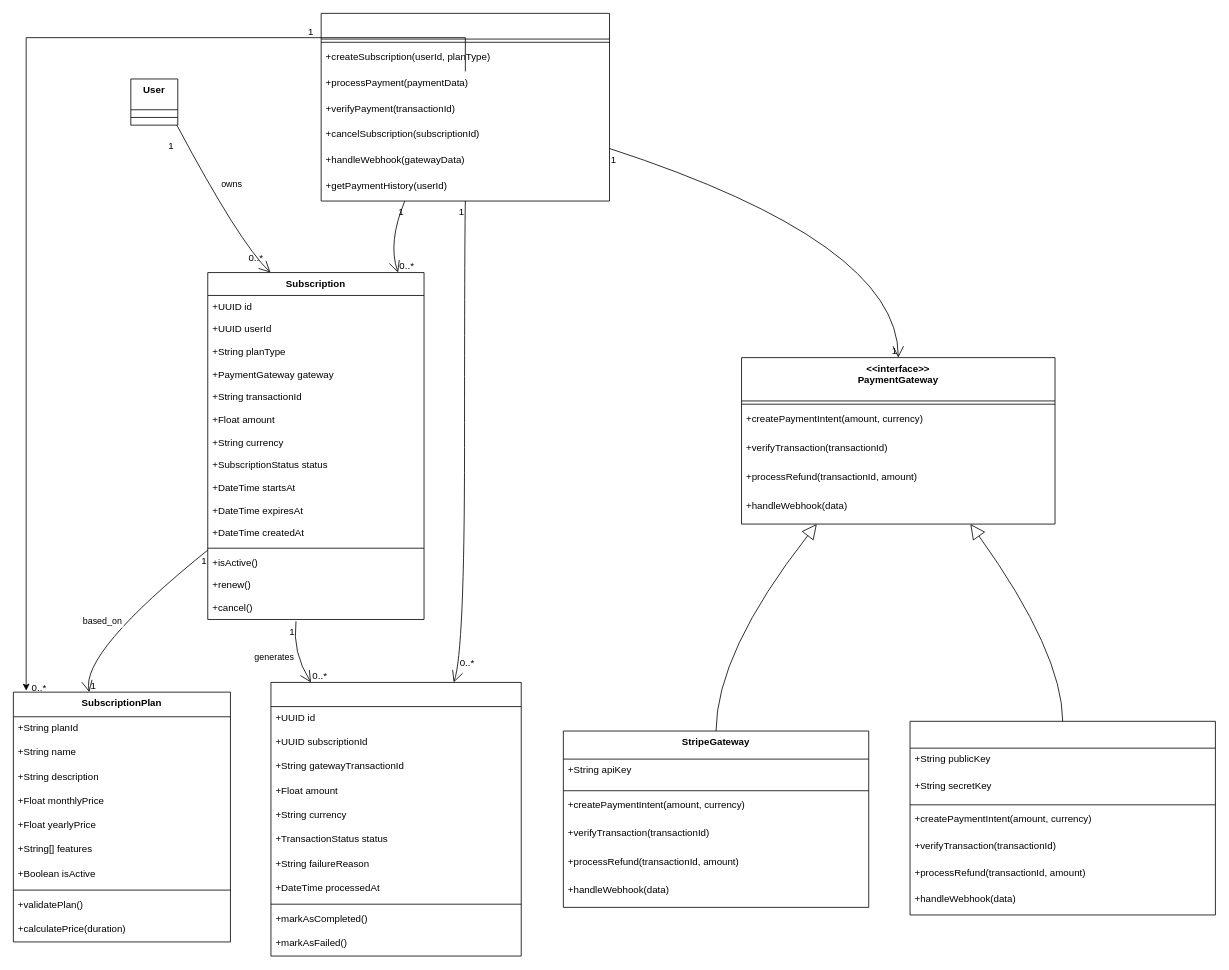
This 1229x970 diagram has some shape labels left out. Each missing label, with the box of its shape:
KhaltiGateway: (909, 720, 1215, 915)
PaymentService: (320, 13, 610, 201)
PaymentTransaction: (270, 682, 521, 956)
